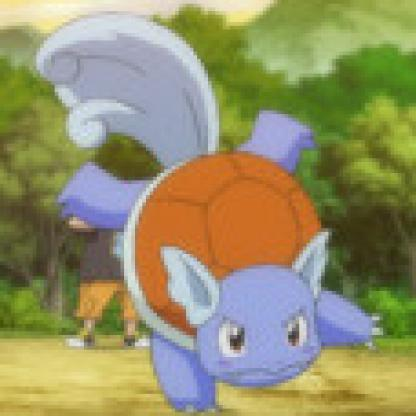Wartortle: (30, 5, 392, 413)
